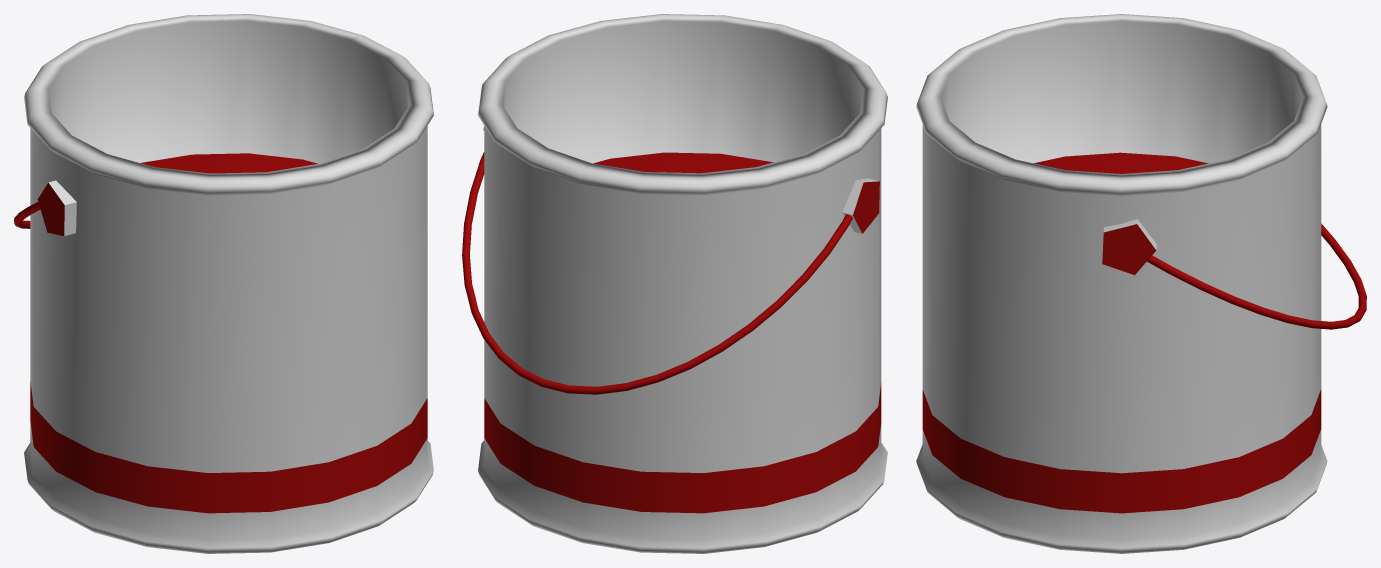
File: paintCan.fbx
3 renders of one model, left to right at view 1: azimuth 30°, elevation 25°; view 2: azimuth 150°, elevation 25°; view 3: azimuth 270°, elevation 25°, orthographic.
Visible parts, largest first — view 1: paintCan; view 2: paintCan; view 3: paintCan.
Part boxes in pixels (box(x1,y1,x2,y2)): paintCan: box(14, 14, 433, 553); paintCan: box(462, 14, 887, 553); paintCan: box(916, 14, 1366, 553).
Size of the model in its own units: 20.36 by 20.01 by 21.91.
